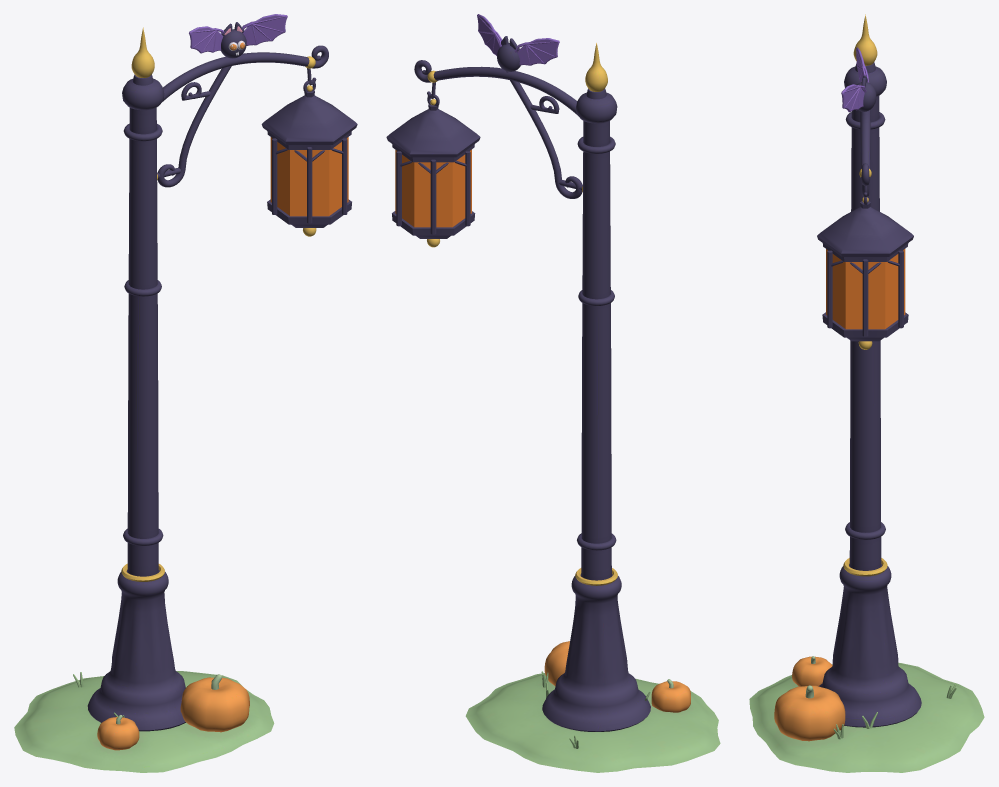
Rendered from spooky-lamp-post.obj.
3 views of the same model, side by side, from view 1: azimuth 30°, elevation 25°; view 2: azimuth 150°, elevation 25°; view 3: azimuth 270°, elevation 25° (orthographic). The views are drawn at different scales.
Parts seen in each view (by area): view 1: spooky-lamp-post_body, spooky-lamp-post_lantern, spooky-lamp-post_lamp_glow; view 2: spooky-lamp-post_body, spooky-lamp-post_lantern, spooky-lamp-post_lamp_glow; view 3: spooky-lamp-post_body, spooky-lamp-post_lantern, spooky-lamp-post_lamp_glow.
Boxes of the visible parts, <box> form: spooky-lamp-post_body: <box>14,14,328,772</box>; spooky-lamp-post_lantern: <box>261,80,357,236</box>; spooky-lamp-post_lamp_glow: <box>270,137,348,216</box>; spooky-lamp-post_body: <box>414,14,720,772</box>; spooky-lamp-post_lantern: <box>386,94,480,247</box>; spooky-lamp-post_lamp_glow: <box>395,149,471,227</box>; spooky-lamp-post_body: <box>749,14,984,772</box>; spooky-lamp-post_lantern: <box>817,196,913,349</box>; spooky-lamp-post_lamp_glow: <box>826,249,905,329</box>.
Size of the model in its own units: 1.09 by 2.23 by 0.676.
Materials: 3 (2 with a texture image).
